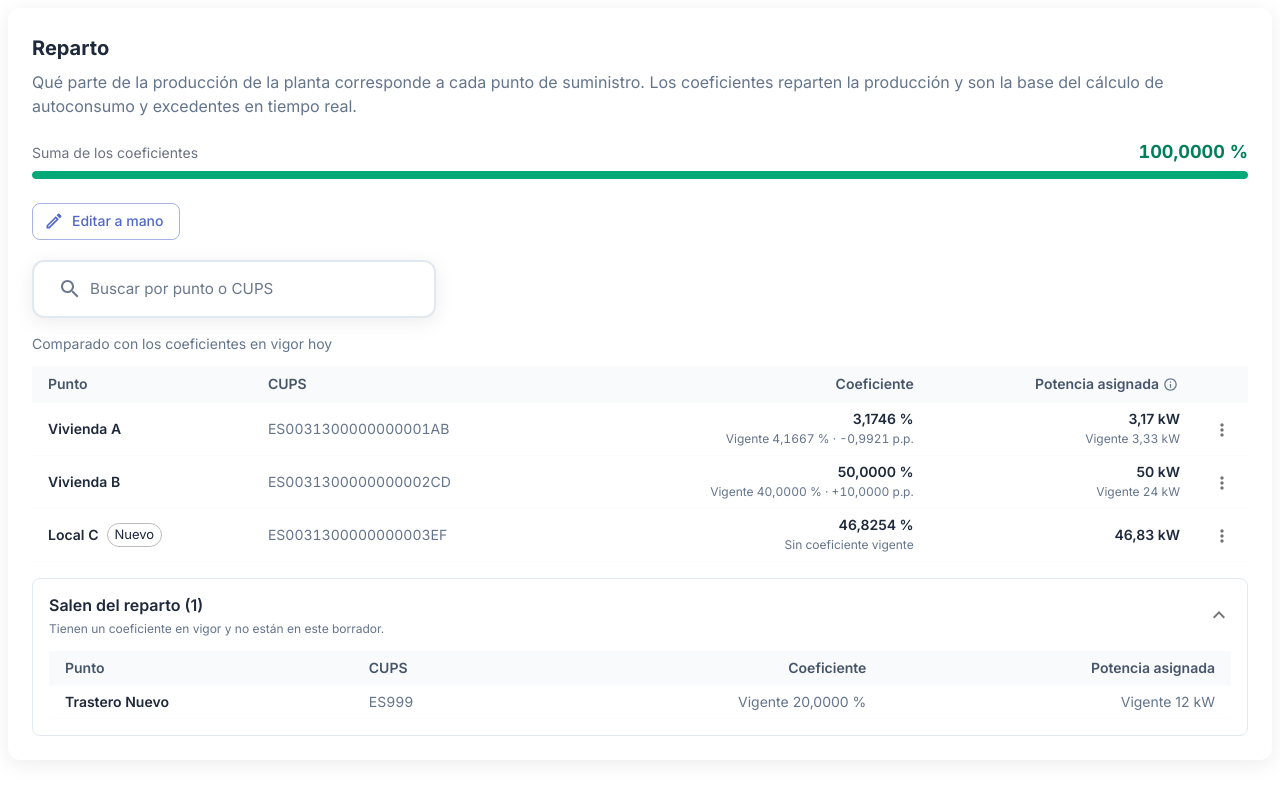
Test: SharingAgreementCoefficientSet (draft vs. in force) › while editing › takes an outgoing supply out of the section when it is re-added
Expected: the text "Trastero Nuevo" is shown, [65, 693, 169, 710]
Click the button "Editar a mano": (106, 221) [32, 203, 180, 240]
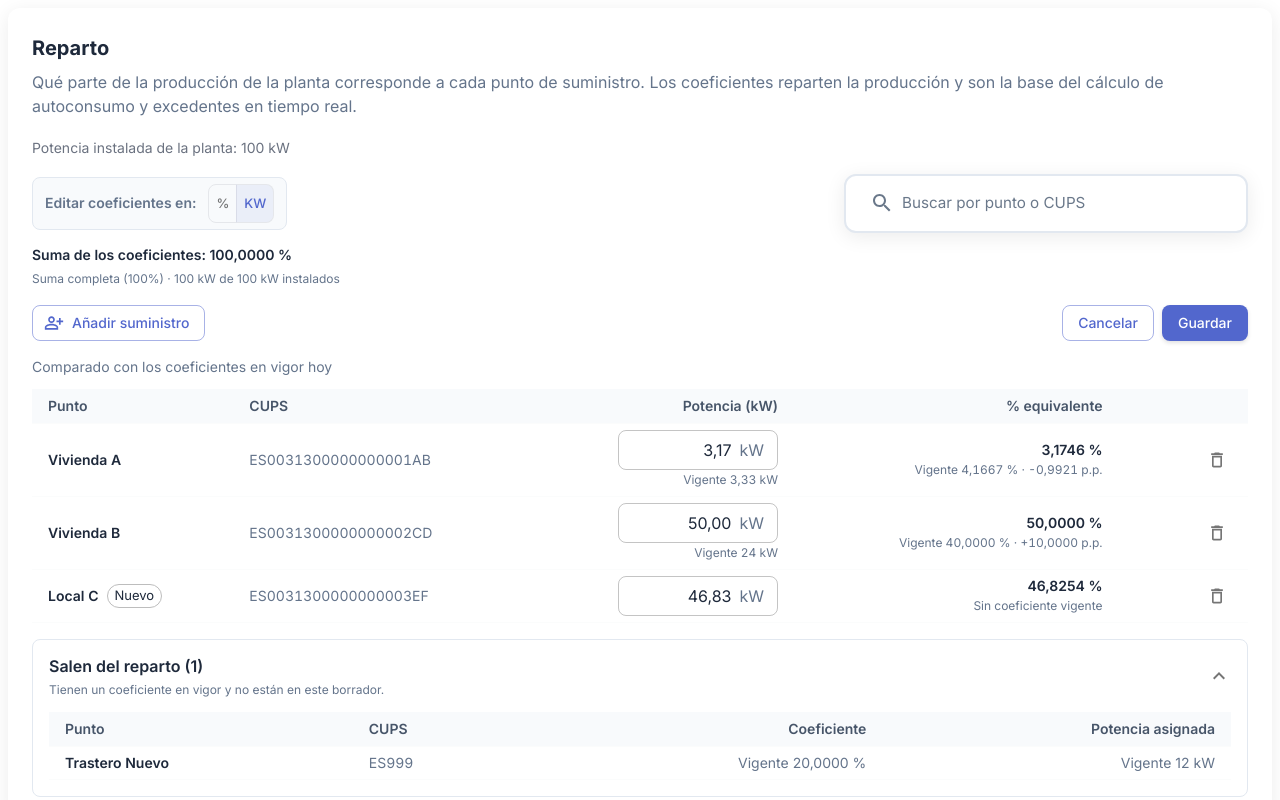
Click the button "Añadir suministro": (119, 323) [32, 305, 205, 341]
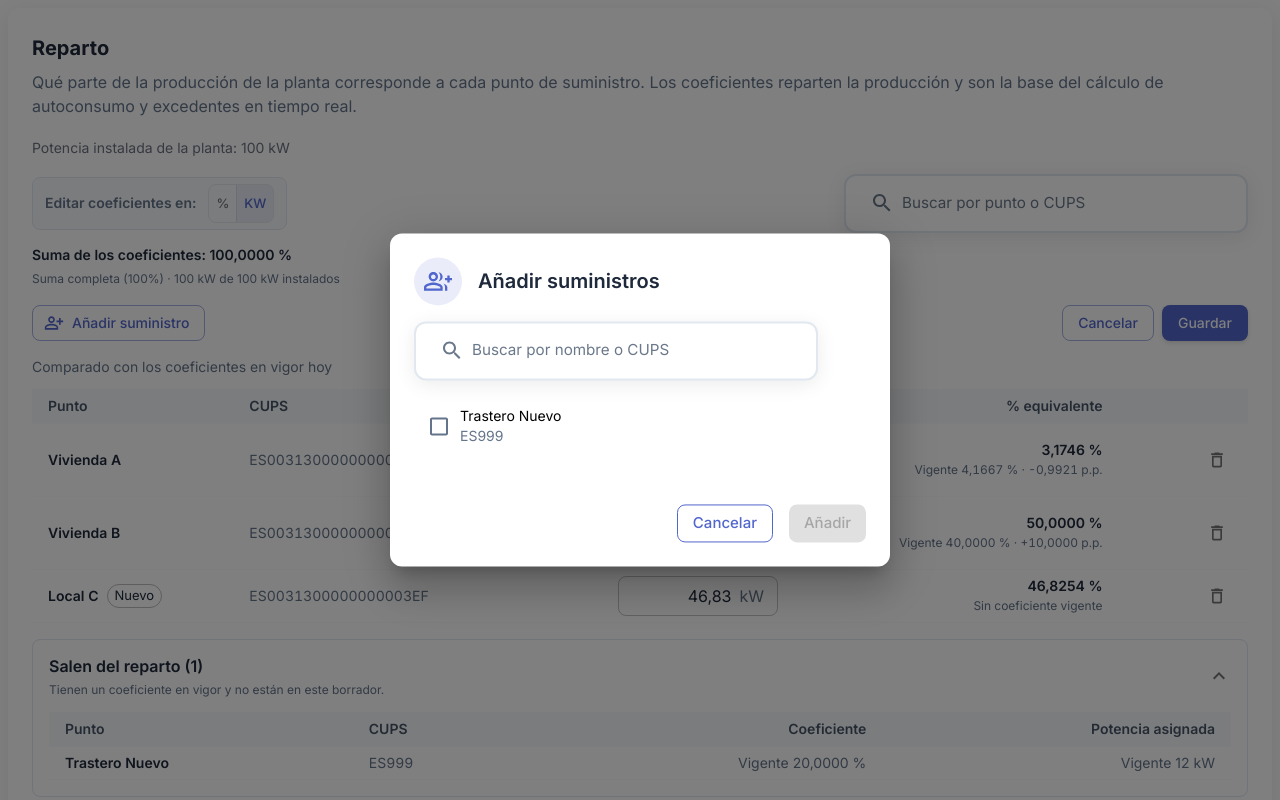
Click the text "Trastero Nuevo": (511, 416) [460, 407, 562, 424]
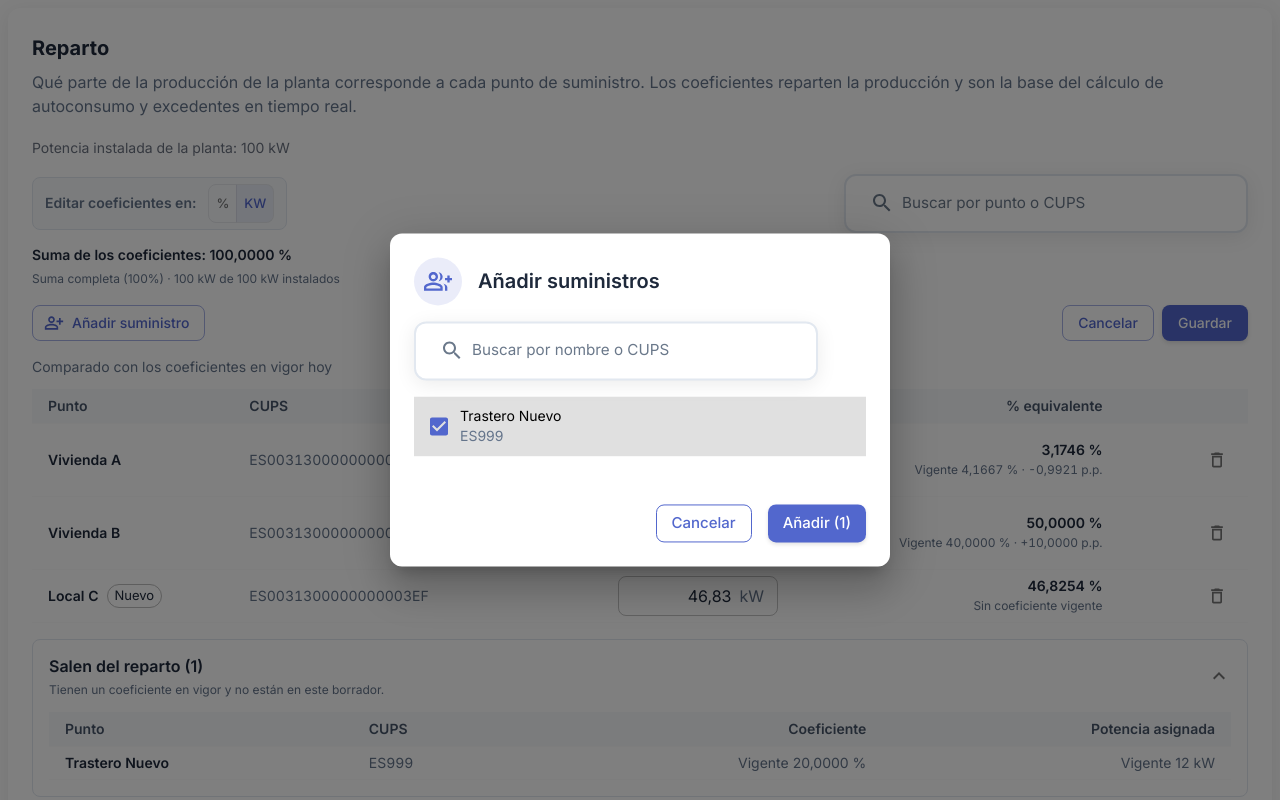
Click the button "Añadir (1)": (817, 523) [768, 504, 866, 543]
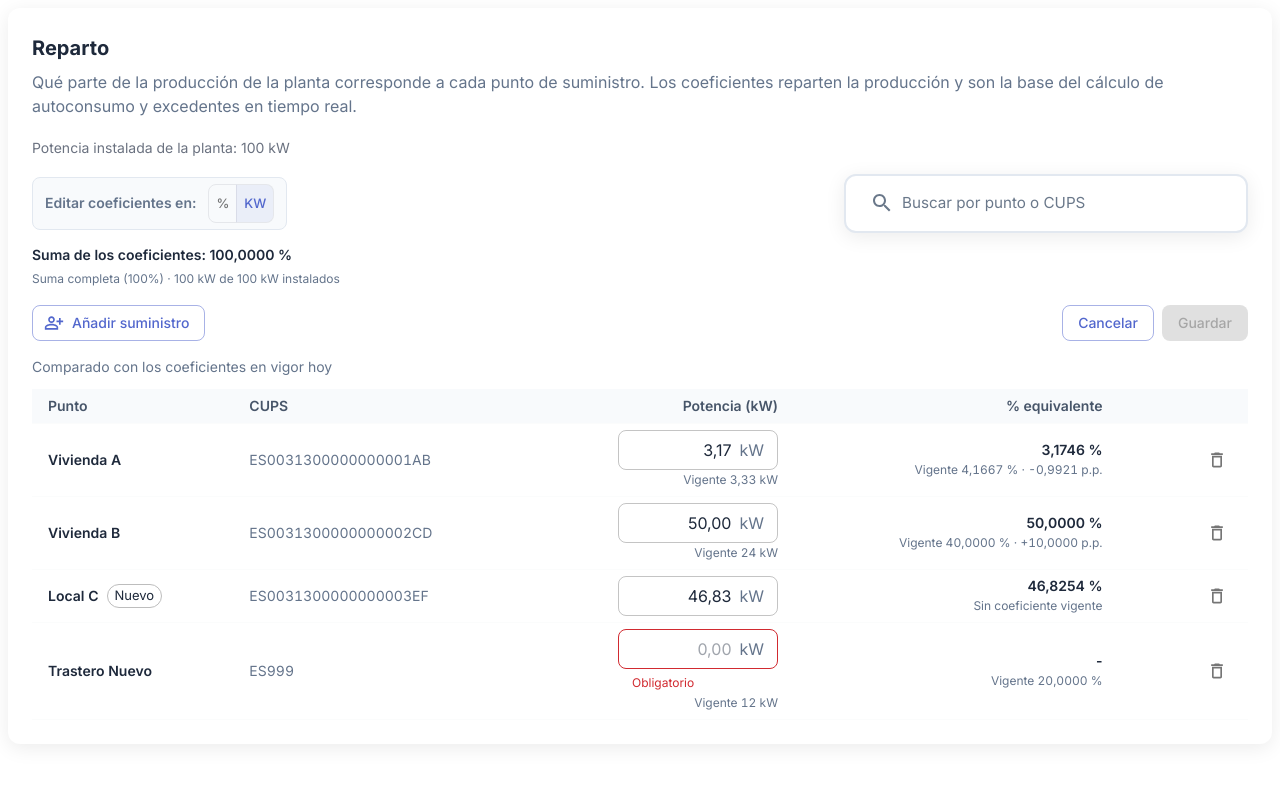
Result: the button "Salen del reparto" is gone
